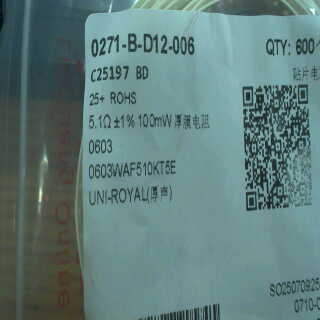5.1R: (87, 109, 112, 134)
